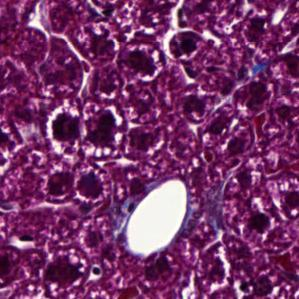inflammation: (86, 103, 131, 160), (44, 102, 91, 151), (180, 85, 223, 136), (197, 243, 236, 298), (162, 27, 208, 64)
